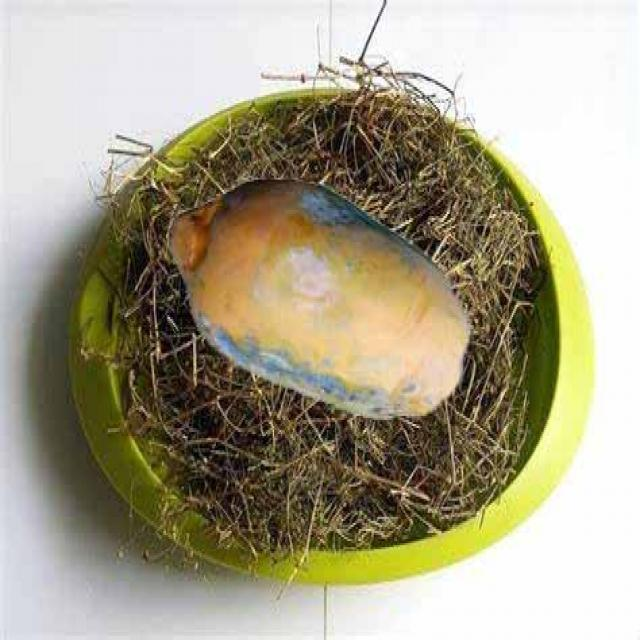Pepaya rippen: (164, 166, 472, 444)
